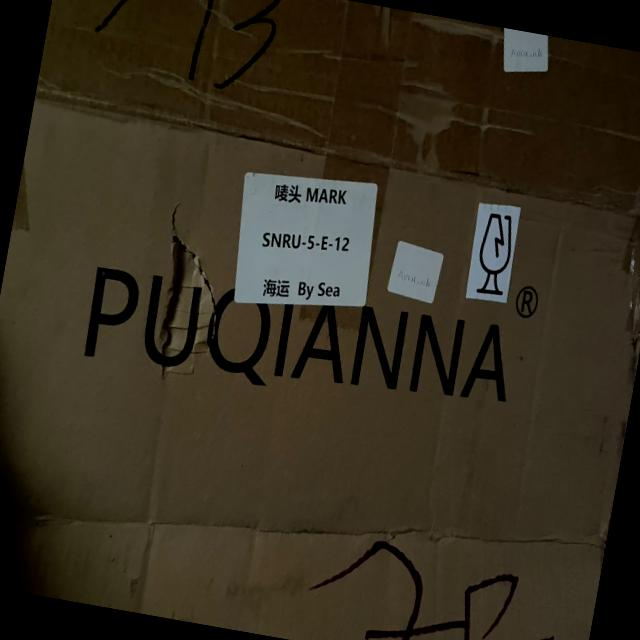carton_box: (0, 0, 640, 640)
export_mark_label: (222, 161, 392, 322)
fragile_label: (458, 188, 532, 314)
package_damage: (113, 184, 262, 402), (597, 134, 640, 351)
